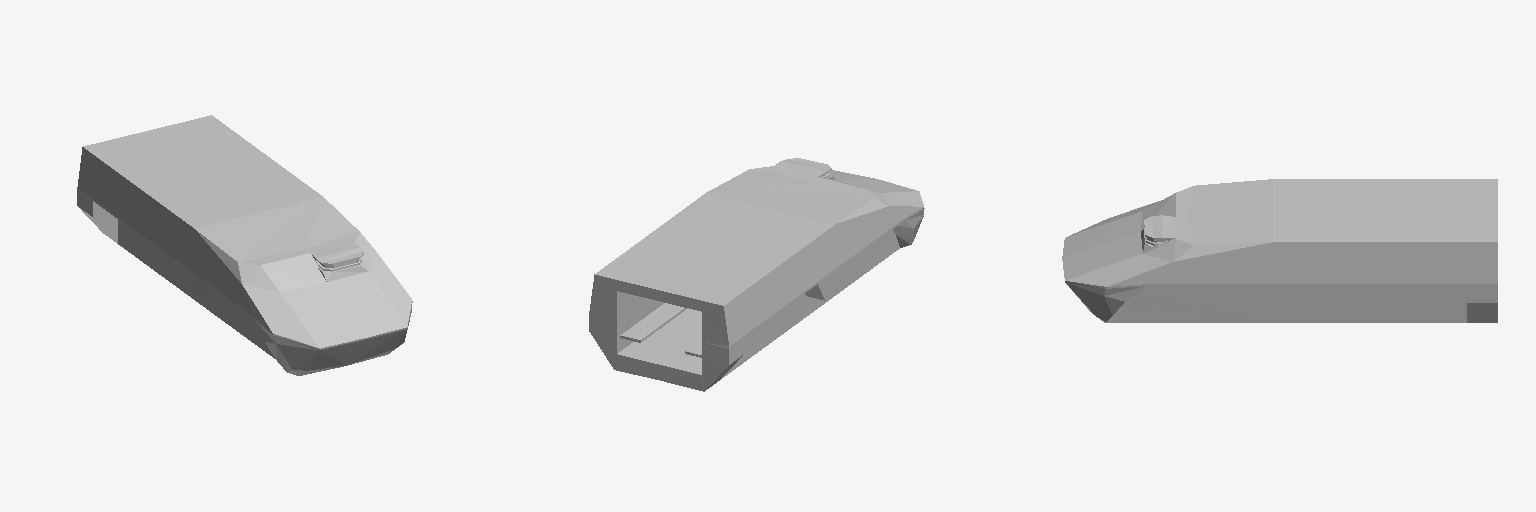
The model's file is lav III_cassie .obj.
3 renders of one model, left to right at view 1: azimuth 30°, elevation 25°; view 2: azimuth 150°, elevation 25°; view 3: azimuth 270°, elevation 25°, orthographic.
Parts seen in each view (by area): view 1: lav_Casse_Cube.004; view 2: lav_Casse_Cube.004; view 3: lav_Casse_Cube.004.
Part boxes in pixels (x1,y1,x2,y2): lav_Casse_Cube.004: (77, 115, 412, 375); lav_Casse_Cube.004: (589, 158, 924, 391); lav_Casse_Cube.004: (1062, 179, 1497, 322).
Size of the model in its own units: 4.46 by 2.77 by 12.01.